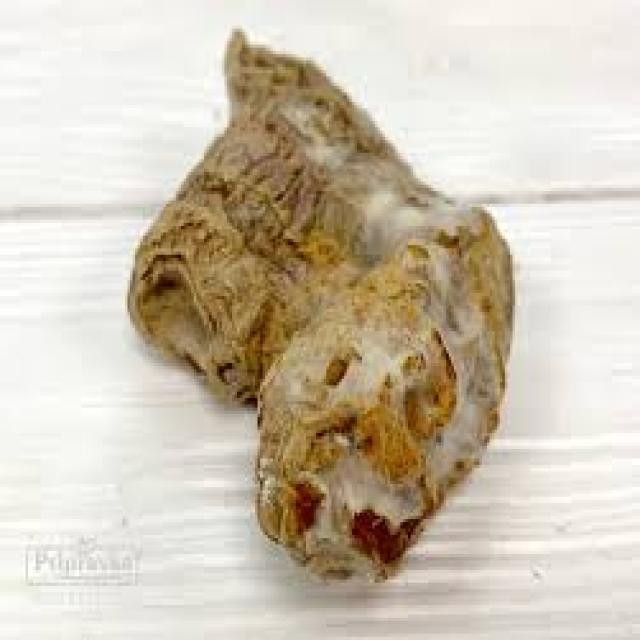ginger: (135, 33, 530, 590)
